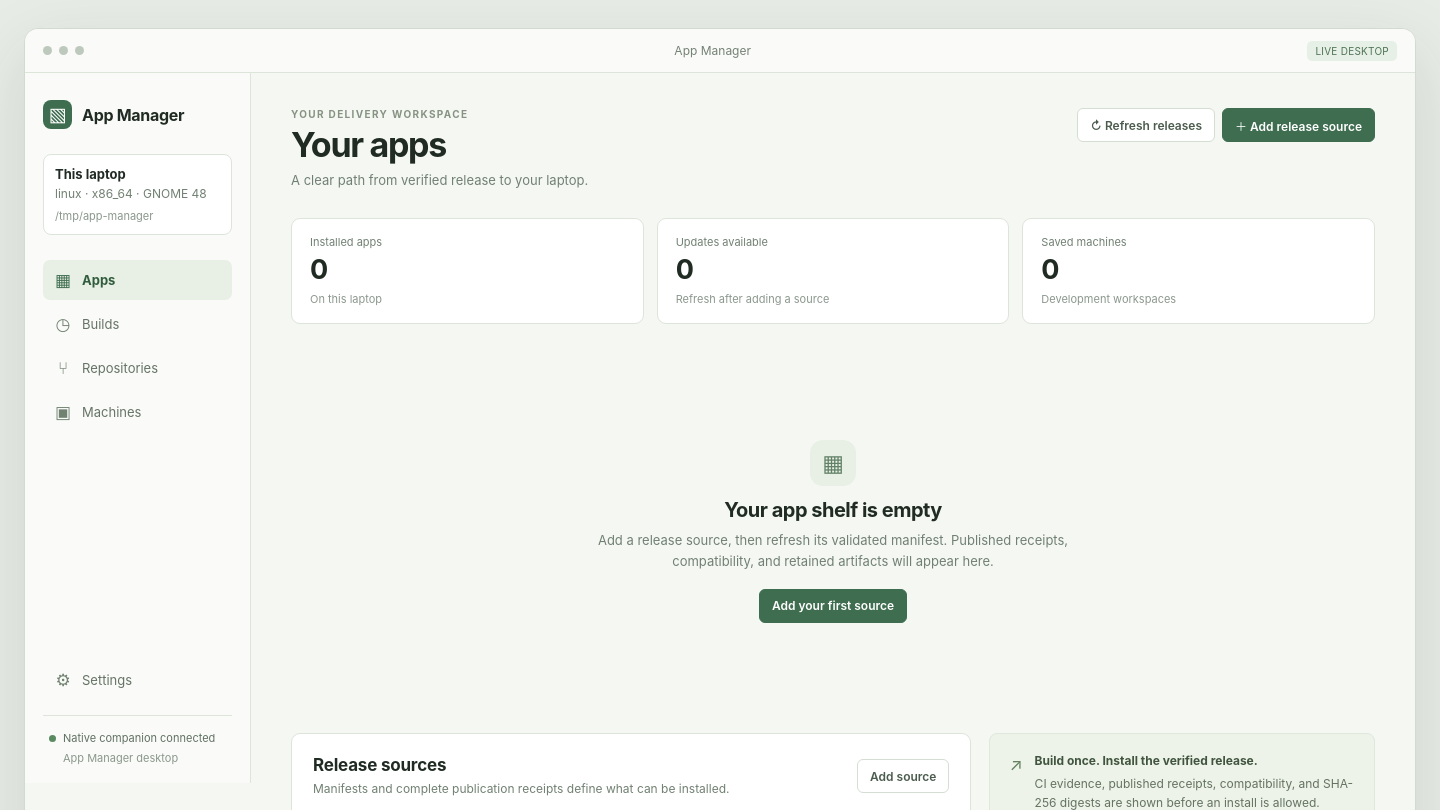
Test case: App Manager runtime boundaries › reports a real refresh failure without replacing state with sample data
Check: the heading "Your app shelf is empty" is shown, box [724, 498, 942, 523]
Click the button "↻ Refresh releases" at {"x": 1146, "y": 125}, box [1077, 108, 1215, 142]
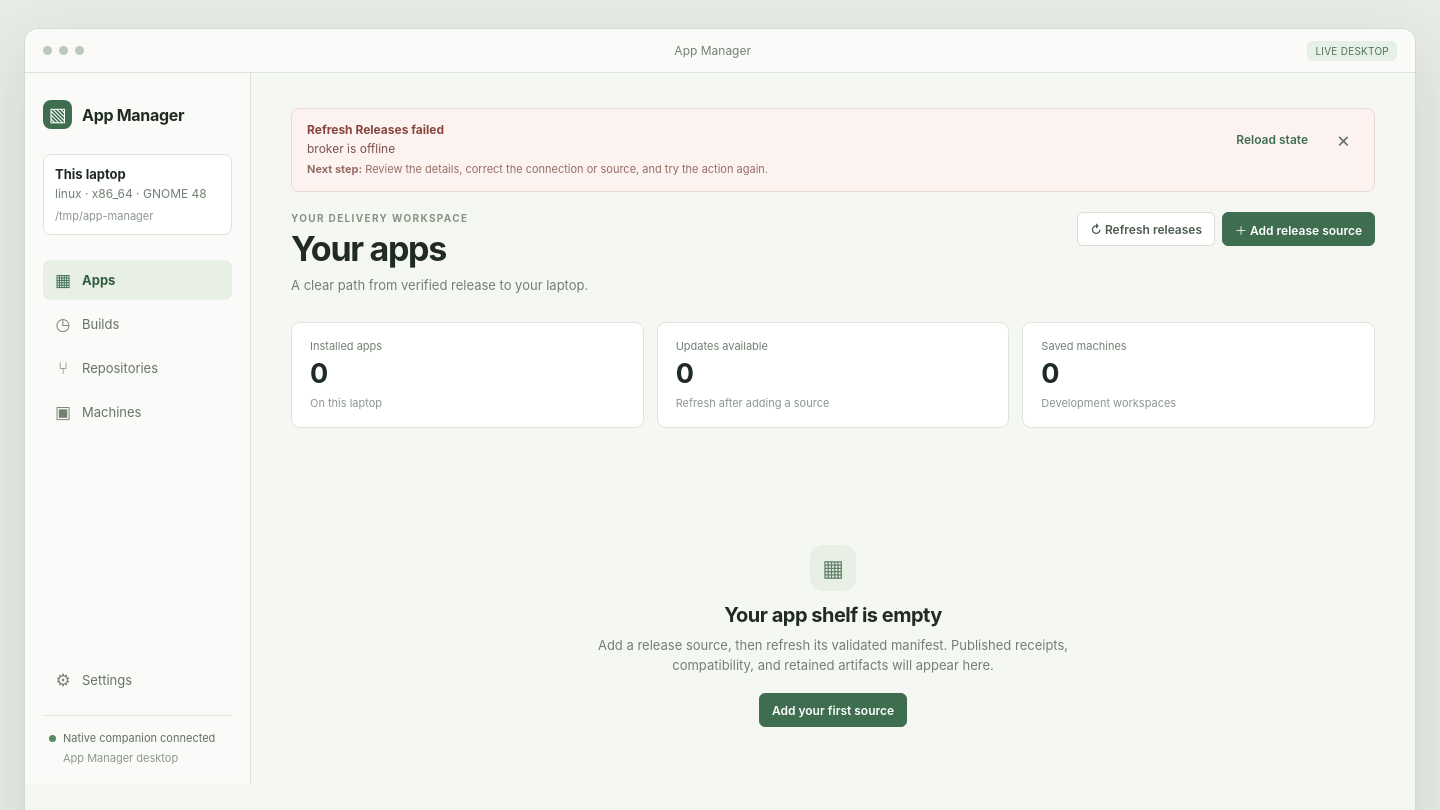
Check: the message shows "broker is offline", box [307, 141, 395, 156]
